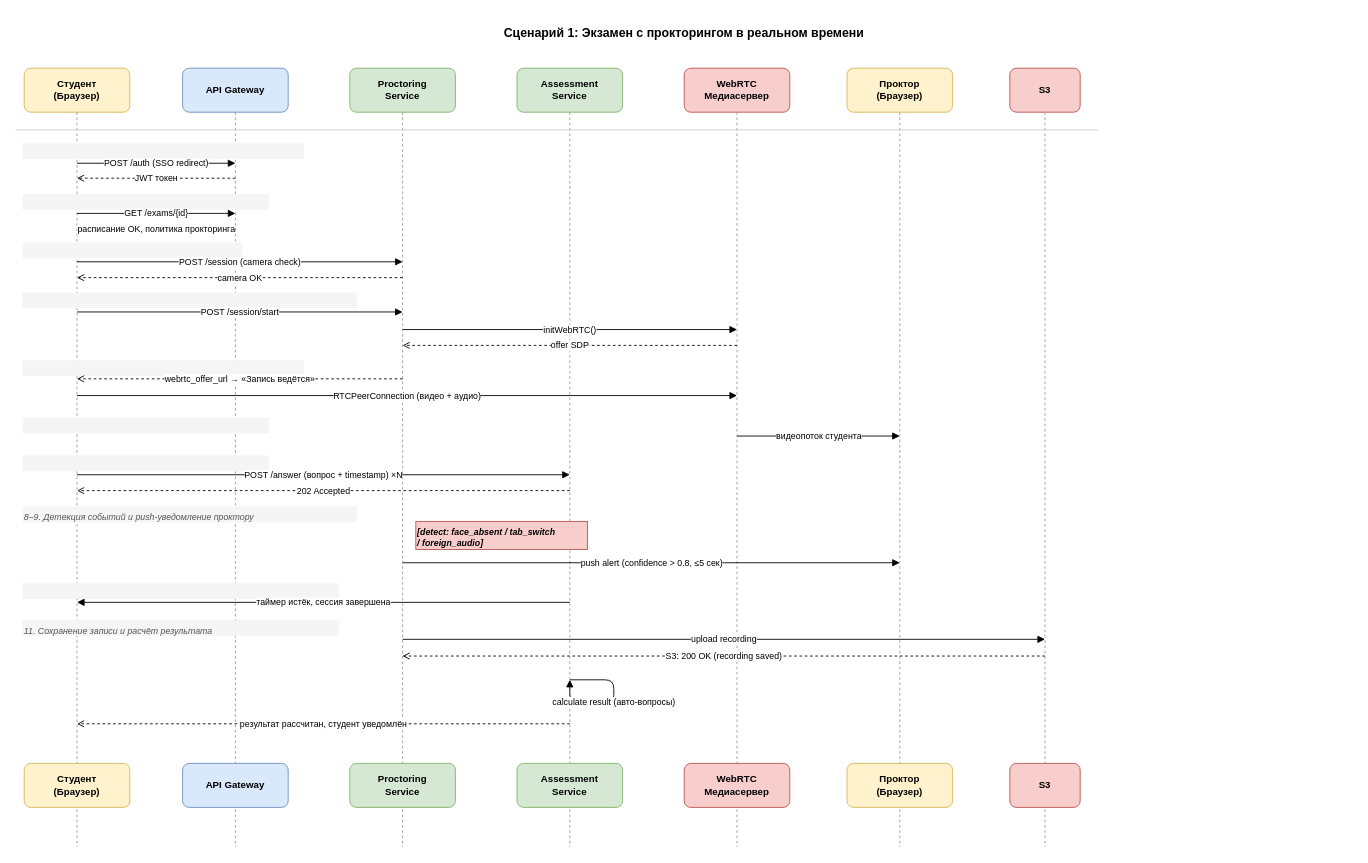
This 1368x863 diagram has some shape labels left out. Each missing label, with the centre of its shape:
"1. Вход через SSO (за 15 мин до начала)" goes at (163,150).
"10. Истечение времени — блокировка ответов" goes at (180,590).
"2. Открытие страницы экзамена" goes at (145,201).
"3. Согласие + camera check" goes at (132,250).
"4. Начало экзамена — запрос WebRTC-соединения" goes at (189,300).
"5. Соединение установлено (≤30 сек)" goes at (163,368).
"6. Проктор видит видеопоток" goes at (145,425).
"7. Студент отвечает на вопросы" goes at (145,463).
